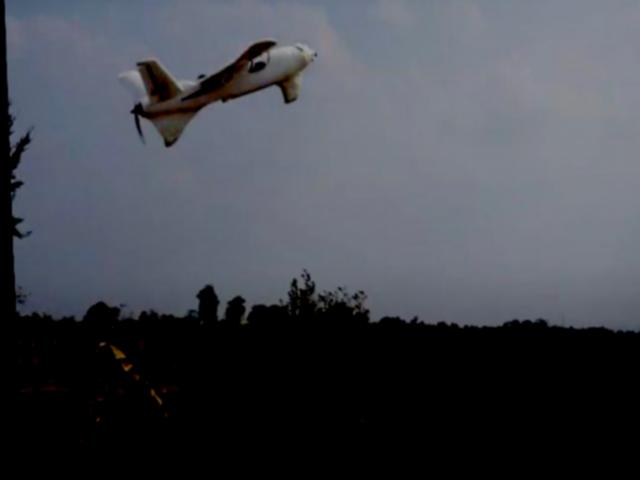iha: (116, 27, 327, 153)
